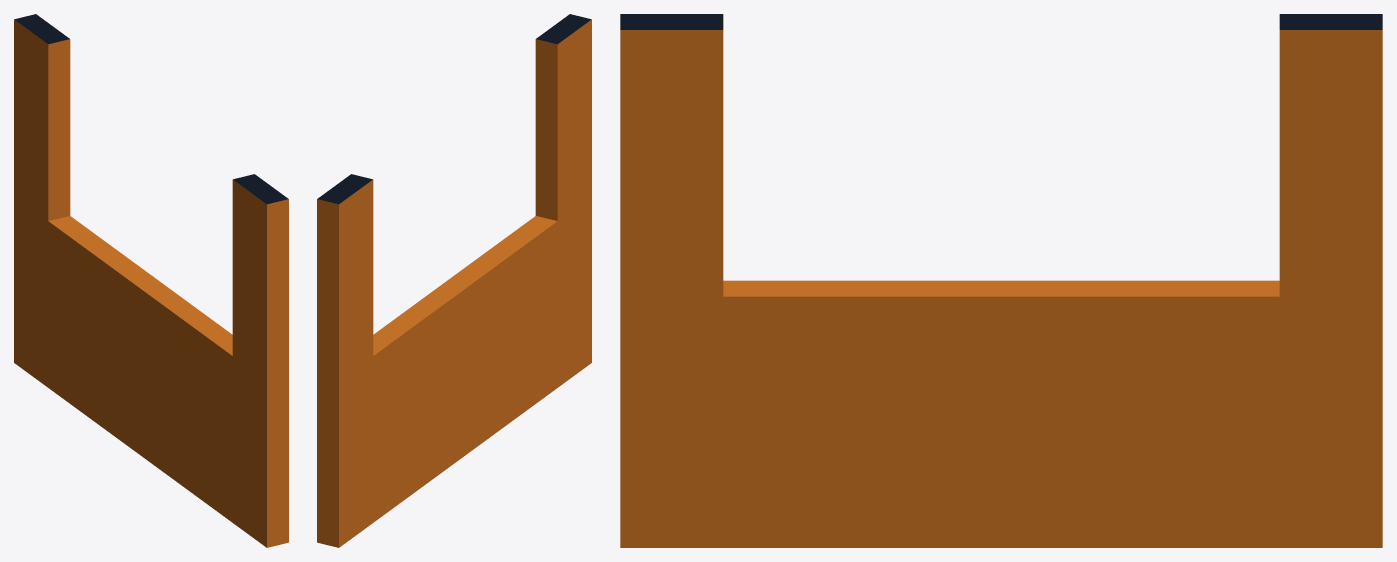
File: Fenetre_Mur1.FBX
3 renders of one model, left to right at view 1: azimuth 30°, elevation 25°; view 2: azimuth 150°, elevation 25°; view 3: azimuth 270°, elevation 25°, orthographic. The views are drawn at different scales.
Visible parts, largest first — view 1: Fenetre_Mur1; view 2: Fenetre_Mur1; view 3: Fenetre_Mur1.
Boxes of the visible parts, <box> form: Fenetre_Mur1: <box>14,14,288,547</box>; Fenetre_Mur1: <box>317,14,591,547</box>; Fenetre_Mur1: <box>620,14,1382,547</box>.
Bounding box in the file's own units: 0.1 × 1.5 × 2.
